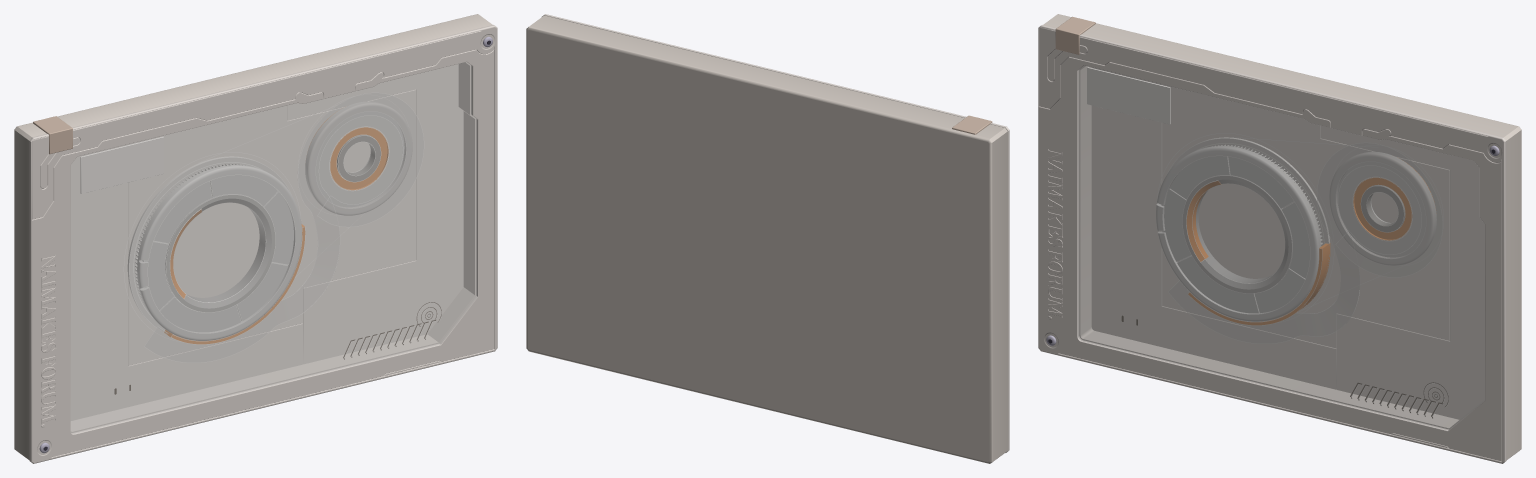
File: archive-assembly.glb
3 renders of one model, left to right at view 1: azimuth 30°, elevation 25°; view 2: azimuth 150°, elevation 25°; view 3: azimuth 330°, elevation 25°, orthographic.
Parts seen in each view (by area): view 1: cover__Optical_Window.001, substrate__Optical_Diffuser.001, cover__Frosted_Polymer.001, optical-core__Subsurface_Optics, carrier__Ivory_Edges.001, optical-lenses__Optical_Film, carrier__Optical_Edges.001, optical-core__Plan_Hairline, cover__Printed_Label, optical-core__Amber_Optical_Inlay, cover__Index_Inlay.001, cover__Case_Engraving; view 2: carrier__Ivory_Edges.001, cover__Frosted_Polymer.001; view 3: cover__Optical_Window.001, substrate__Optical_Diffuser.001, cover__Frosted_Polymer.001, optical-core__Subsurface_Optics, carrier__Ivory_Edges.001, optical-lenses__Optical_Film, carrier__Optical_Edges.001, optical-core__Plan_Hairline, cover__Printed_Label, optical-core__Amber_Optical_Inlay, cover__Index_Inlay.001, cover__Case_Engraving.
Part boxes in pixels (x1,y1,x2,y2): cover__Optical_Window.001: (71, 62, 477, 433); substrate__Optical_Diffuser.001: (70, 64, 463, 420); cover__Frosted_Polymer.001: (29, 25, 497, 463); optical-core__Subsurface_Optics: (127, 102, 412, 340); carrier__Ivory_Edges.001: (14, 14, 492, 460); optical-lenses__Optical_Film: (145, 93, 423, 361); carrier__Optical_Edges.001: (70, 62, 476, 432); optical-core__Plan_Hairline: (123, 92, 424, 362); cover__Printed_Label: (80, 136, 430, 316); optical-core__Amber_Optical_Inlay: (164, 118, 388, 344); cover__Index_Inlay.001: (33, 116, 72, 154); cover__Case_Engraving: (343, 302, 441, 359); carrier__Ivory_Edges.001: (526, 15, 1007, 463); cover__Frosted_Polymer.001: (542, 14, 1009, 452); cover__Optical_Window.001: (1078, 65, 1484, 430); substrate__Optical_Diffuser.001: (1091, 67, 1484, 419); cover__Frosted_Polymer.001: (1038, 25, 1506, 463); optical-core__Subsurface_Optics: (1156, 137, 1436, 321); carrier__Ivory_Edges.001: (1043, 14, 1521, 460); optical-lenses__Optical_Film: (1169, 143, 1441, 342); carrier__Optical_Edges.001: (1079, 65, 1484, 429); optical-core__Plan_Hairline: (1157, 133, 1443, 343); cover__Printed_Label: (1087, 67, 1437, 397); optical-core__Amber_Optical_Inlay: (1186, 170, 1432, 325); cover__Index_Inlay.001: (1055, 16, 1095, 54); cover__Case_Engraving: (1350, 382, 1448, 418).
Size of the model in its own units: 5 by 3.35 by 0.3563.
